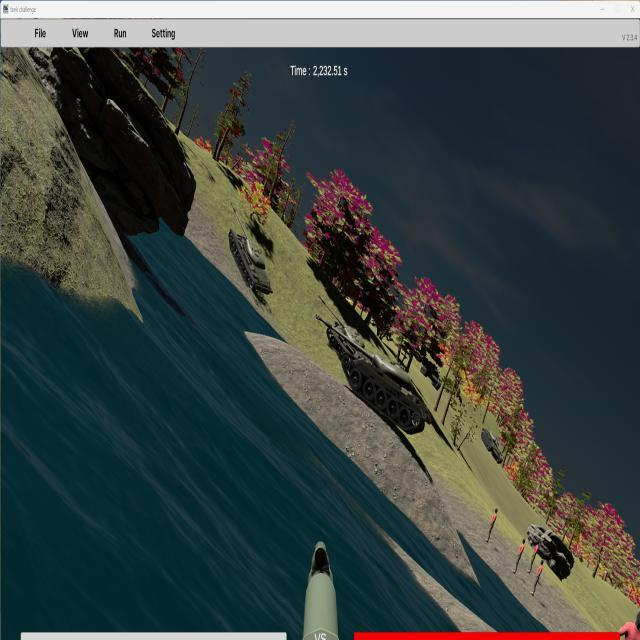Tank: (317, 328, 430, 433), (228, 199, 272, 297), (314, 295, 364, 365), (481, 427, 505, 465)
